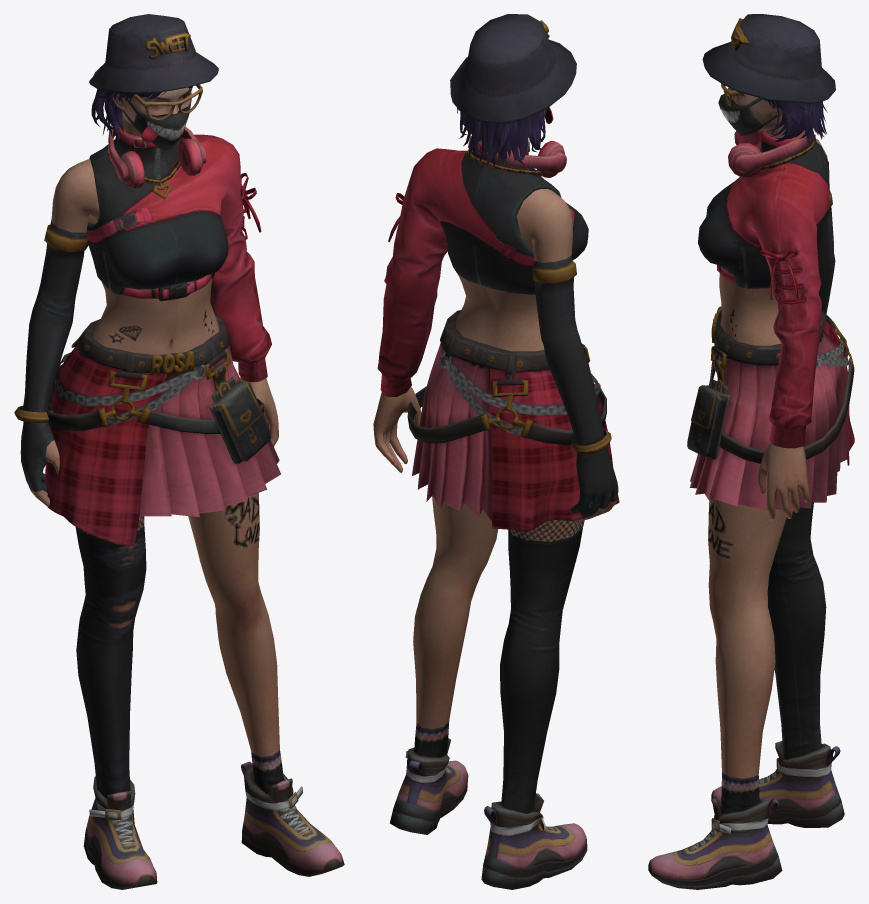
The model's file is rosa.FBX.
The picture shows the model from 3 angles, left to right: view 1: azimuth 30°, elevation 25°; view 2: azimuth 150°, elevation 25°; view 3: azimuth 270°, elevation 25°; orthographic projection. The views are drawn at different scales.
Visible parts, largest first — view 1: Mesh_4675.rip, Mesh_4673.rip, Mesh_4683.rip; view 2: Mesh_4675.rip, Mesh_4673.rip, Mesh_4683.rip; view 3: Mesh_4675.rip, Mesh_4673.rip, Mesh_4683.rip.
Part boxes in pixels (left/top/right/bottom): Mesh_4675.rip: left=14, top=14, right=344, bottom=889; Mesh_4673.rip: left=30, top=87, right=279, bottom=756; Mesh_4683.rip: left=91, top=86, right=192, bottom=141; Mesh_4675.rip: left=377, top=14, right=619, bottom=889; Mesh_4673.rip: left=373, top=109, right=616, bottom=729; Mesh_4683.rip: left=457, top=108, right=547, bottom=168; Mesh_4675.rip: left=648, top=14, right=854, bottom=889; Mesh_4673.rip: left=708, top=87, right=827, bottom=778; Mesh_4683.rip: left=740, top=92, right=827, bottom=145.
Size of the model in its own units: 0.7142 by 2.25 by 0.5197.
3 materials, 3 textured.
